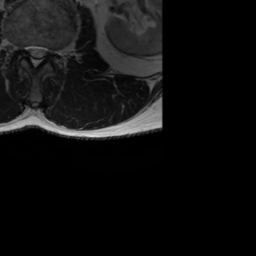CCS_normal: (32, 40, 39, 74)
LFS_severe_stenosis: (48, 42, 55, 61)
LLS_normal: (40, 40, 47, 63)
RFS_stenosis: (17, 39, 25, 57)
RLS_stenosis: (24, 40, 32, 63)
